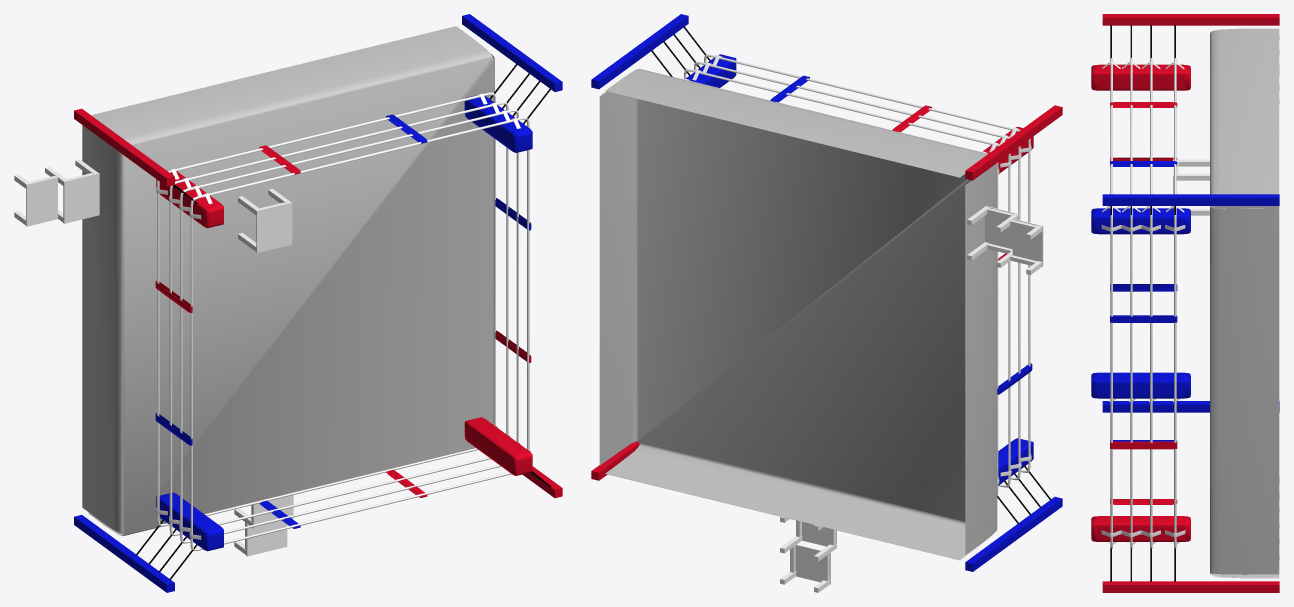
Rendered from ring.fbx.
3 views of the same model, side by side, from view 1: azimuth 30°, elevation 25°; view 2: azimuth 150°, elevation 25°; view 3: azimuth 270°, elevation 25° (orthographic). The views are drawn at different scales.
Visible parts, largest first — view 1: 10494_Regulation_Boxing_Ring_SG_V1_Max2011_it2; view 2: 10494_Regulation_Boxing_Ring_SG_V1_Max2011_it2; view 3: 10494_Regulation_Boxing_Ring_SG_V1_Max2011_it2.
Boxes of the visible parts, <box> form: 10494_Regulation_Boxing_Ring_SG_V1_Max2011_it2: <box>14,14,562,592</box>; 10494_Regulation_Boxing_Ring_SG_V1_Max2011_it2: <box>591,14,1062,592</box>; 10494_Regulation_Boxing_Ring_SG_V1_Max2011_it2: <box>1091,14,1279,592</box>.
Bounding box in the file's own units: 720 × 718 × 270.
